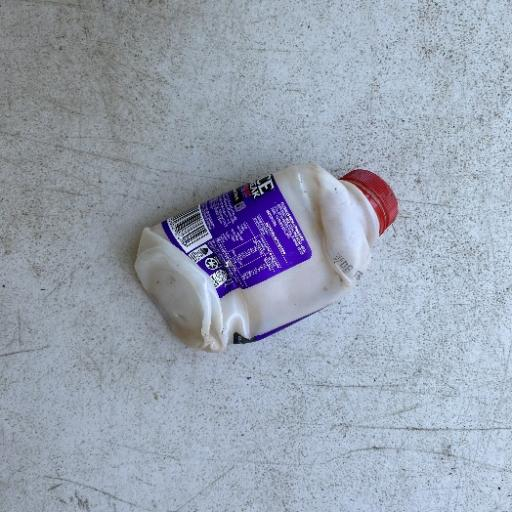Plastic: (131, 160, 401, 355)
